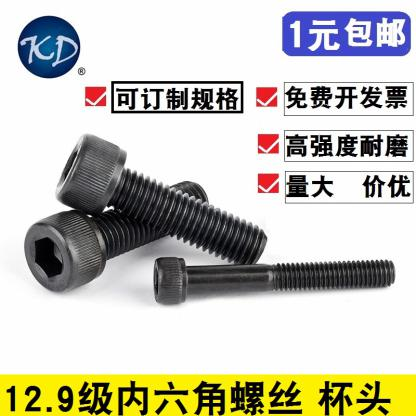FOD: (51, 128, 270, 268), (23, 179, 208, 294), (151, 254, 400, 308)
